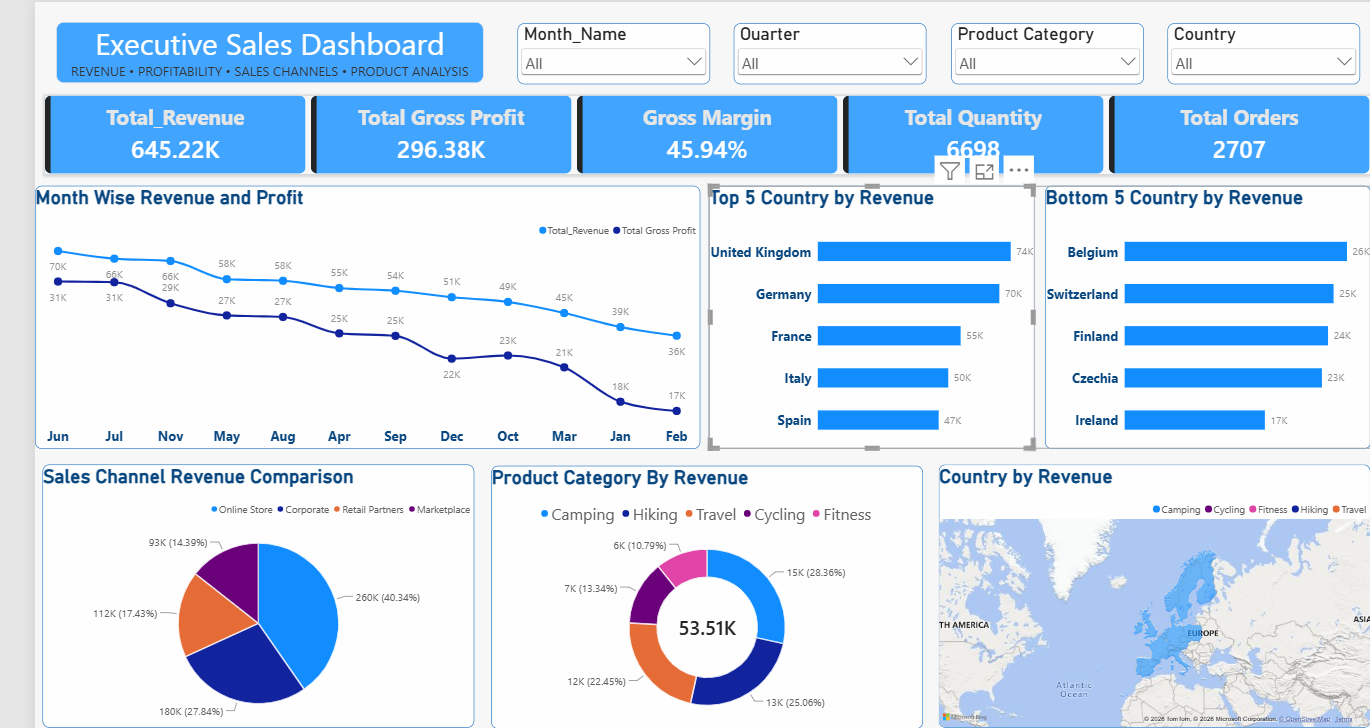

Layout of this report page (visuals, bound fields, positions):
{"tool":"powerbi","page":{"name":"Page 1","canvas":[1920,1080],"ordinal":0},"visuals":[{"type":"slicer","fields":{"Values":["Sales_Data.Product Category"]},"box":[1259.5,29,275.1,86.9],"z":0,"group":"g1"},{"type":"cardVisual","fields":{"Data":["All_Measures.Total_Revenue","All_Measures.Total Gross Profit","All_Measures.Gross Margin","All_Measures.Total Quantity","All_Measures.Total Orders"]},"box":[14.2,134.3,1894,111.9],"z":0},{"type":"clusteredBarChart","title":"Top 5 Country by Revenue","fields":{"Category":["Sales_Data.Country"],"Y":["All_Measures.Total_Revenue"]},"box":[962.2,262.4,465.6,376.4],"z":0,"group":"g2"},{"type":"pieChart","title":"Sales Channel Revenue Comparison","fields":{"Category":["Sales_Data.Sales Channel"],"Y":["All_Measures.Total_Revenue"]},"box":[11,661.2,617.2,376.4],"z":0},{"type":"textbox","box":[30.8,29,541.1,86.9],"z":1000},{"type":"slicer","fields":{"Values":["Data_Table.Month_Name"]},"box":[640.6,29,275.1,86.9],"z":1000,"group":"g1"},{"type":"clusteredBarChart","title":"Bottom 5 Country by Revenue","fields":{"Category":["Sales_Data.Country"],"Y":["All_Measures.Total_Revenue"]},"box":[1442.6,262.4,465.6,376.4],"z":1000,"group":"g2"},{"type":"donutChart","title":"Product Category By Revenue","fields":{"Category":["Sales_Data.Product Category"],"Y":["All_Measures.Total Gross Profit"]},"box":[652,662,617.2,376.4],"z":1000},{"type":"group","id":"g1","title":"Group 1","box":[640.6,29,1203.4,86.9],"z":2000},{"type":"slicer","fields":{"Values":["Data_Table.Ouarter"]},"box":[950.1,29,275.1,86.9],"z":2000,"group":"g1"},{"type":"shapeMap","title":"Bottom 5 Country by Revenue","fields":{"Category":["Sales_Data.Country"],"Series":["Sales_Data.Product Category"],"Value":["All_Measures.Total_Revenue"]},"box":[1291.8,661.2,617.2,376.4],"z":2000},{"type":"slicer","fields":{"Values":["Sales_Data.Country"]},"box":[1569,29,275.1,86.9],"z":3000,"group":"g1"},{"type":"lineChart","title":"Month Wise Revenue and Profit ","fields":{"Category":["Data_Table.Month_Name"],"Y":["All_Measures.Total_Revenue"],"Y2":["All_Measures.Total Gross Profit"]},"box":[0,262.4,950,376.4],"z":3000},{"type":"group","id":"g2","title":"Group 2","box":[962.2,262.4,946,376.4],"z":4000}]}

Visuals, with their boxes on the page's 1920x1080 design canvas (x1, y1, x2, y2). These are canvas units, not pixel positions in the 1370x728 screenshot, which may show the page scaled, cropped or inside an application window:
slicer - Sales_Data.Product Category: [1260,29,1535,116]
cardVisual - All_Measures.Total_Revenue x All_Measures.Total Gross Profit: [14,134,1908,246]
"Top 5 Country by Revenue" clusteredBarChart: [962,262,1428,639]
"Sales Channel Revenue Comparison" pieChart: [11,661,628,1038]
textbox: [31,29,572,116]
slicer - Data_Table.Month_Name: [641,29,916,116]
"Bottom 5 Country by Revenue" clusteredBarChart: [1443,262,1908,639]
"Product Category By Revenue" donutChart: [652,662,1269,1038]
"Group 1" group: [641,29,1844,116]
slicer - Data_Table.Ouarter: [950,29,1225,116]
"Bottom 5 Country by Revenue" shapeMap: [1292,661,1909,1038]
slicer - Sales_Data.Country: [1569,29,1844,116]
"Month Wise Revenue and Profit " lineChart: [0,262,950,639]
"Group 2" group: [962,262,1908,639]
